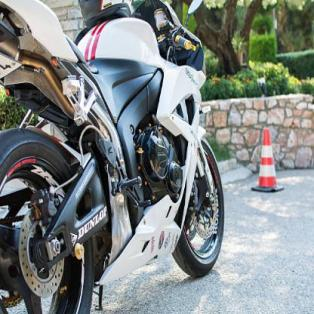Motocicleta: (0, 0, 228, 313)
